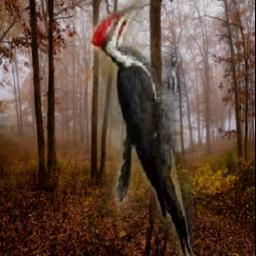Woodpecker: (89, 0, 193, 256)
